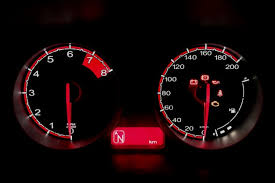Digital_Meter: (110, 126, 164, 148)
